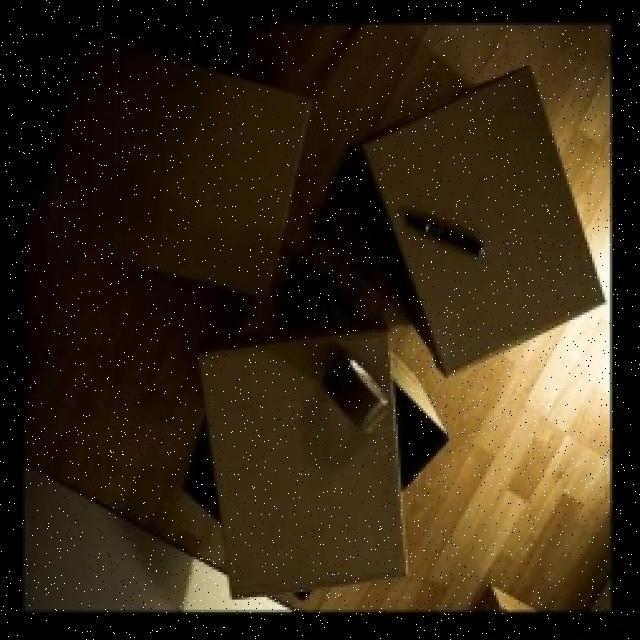box: (42, 22, 298, 290), (188, 321, 437, 587), (362, 79, 596, 325)
